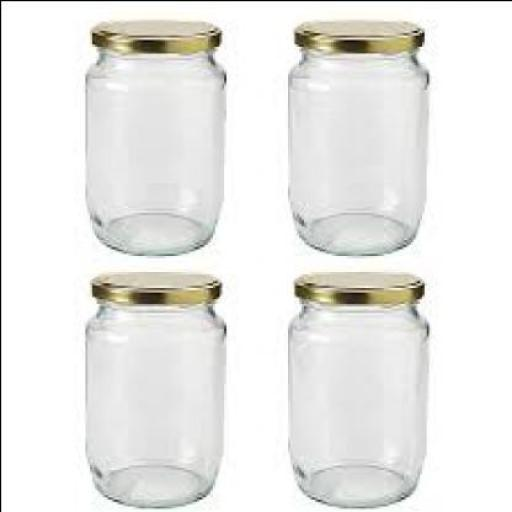glass: (287, 43, 428, 252), (82, 43, 223, 252), (285, 300, 428, 504), (84, 298, 224, 503)
metal: (86, 268, 217, 303), (294, 18, 422, 50), (291, 271, 417, 303), (89, 18, 214, 48)
